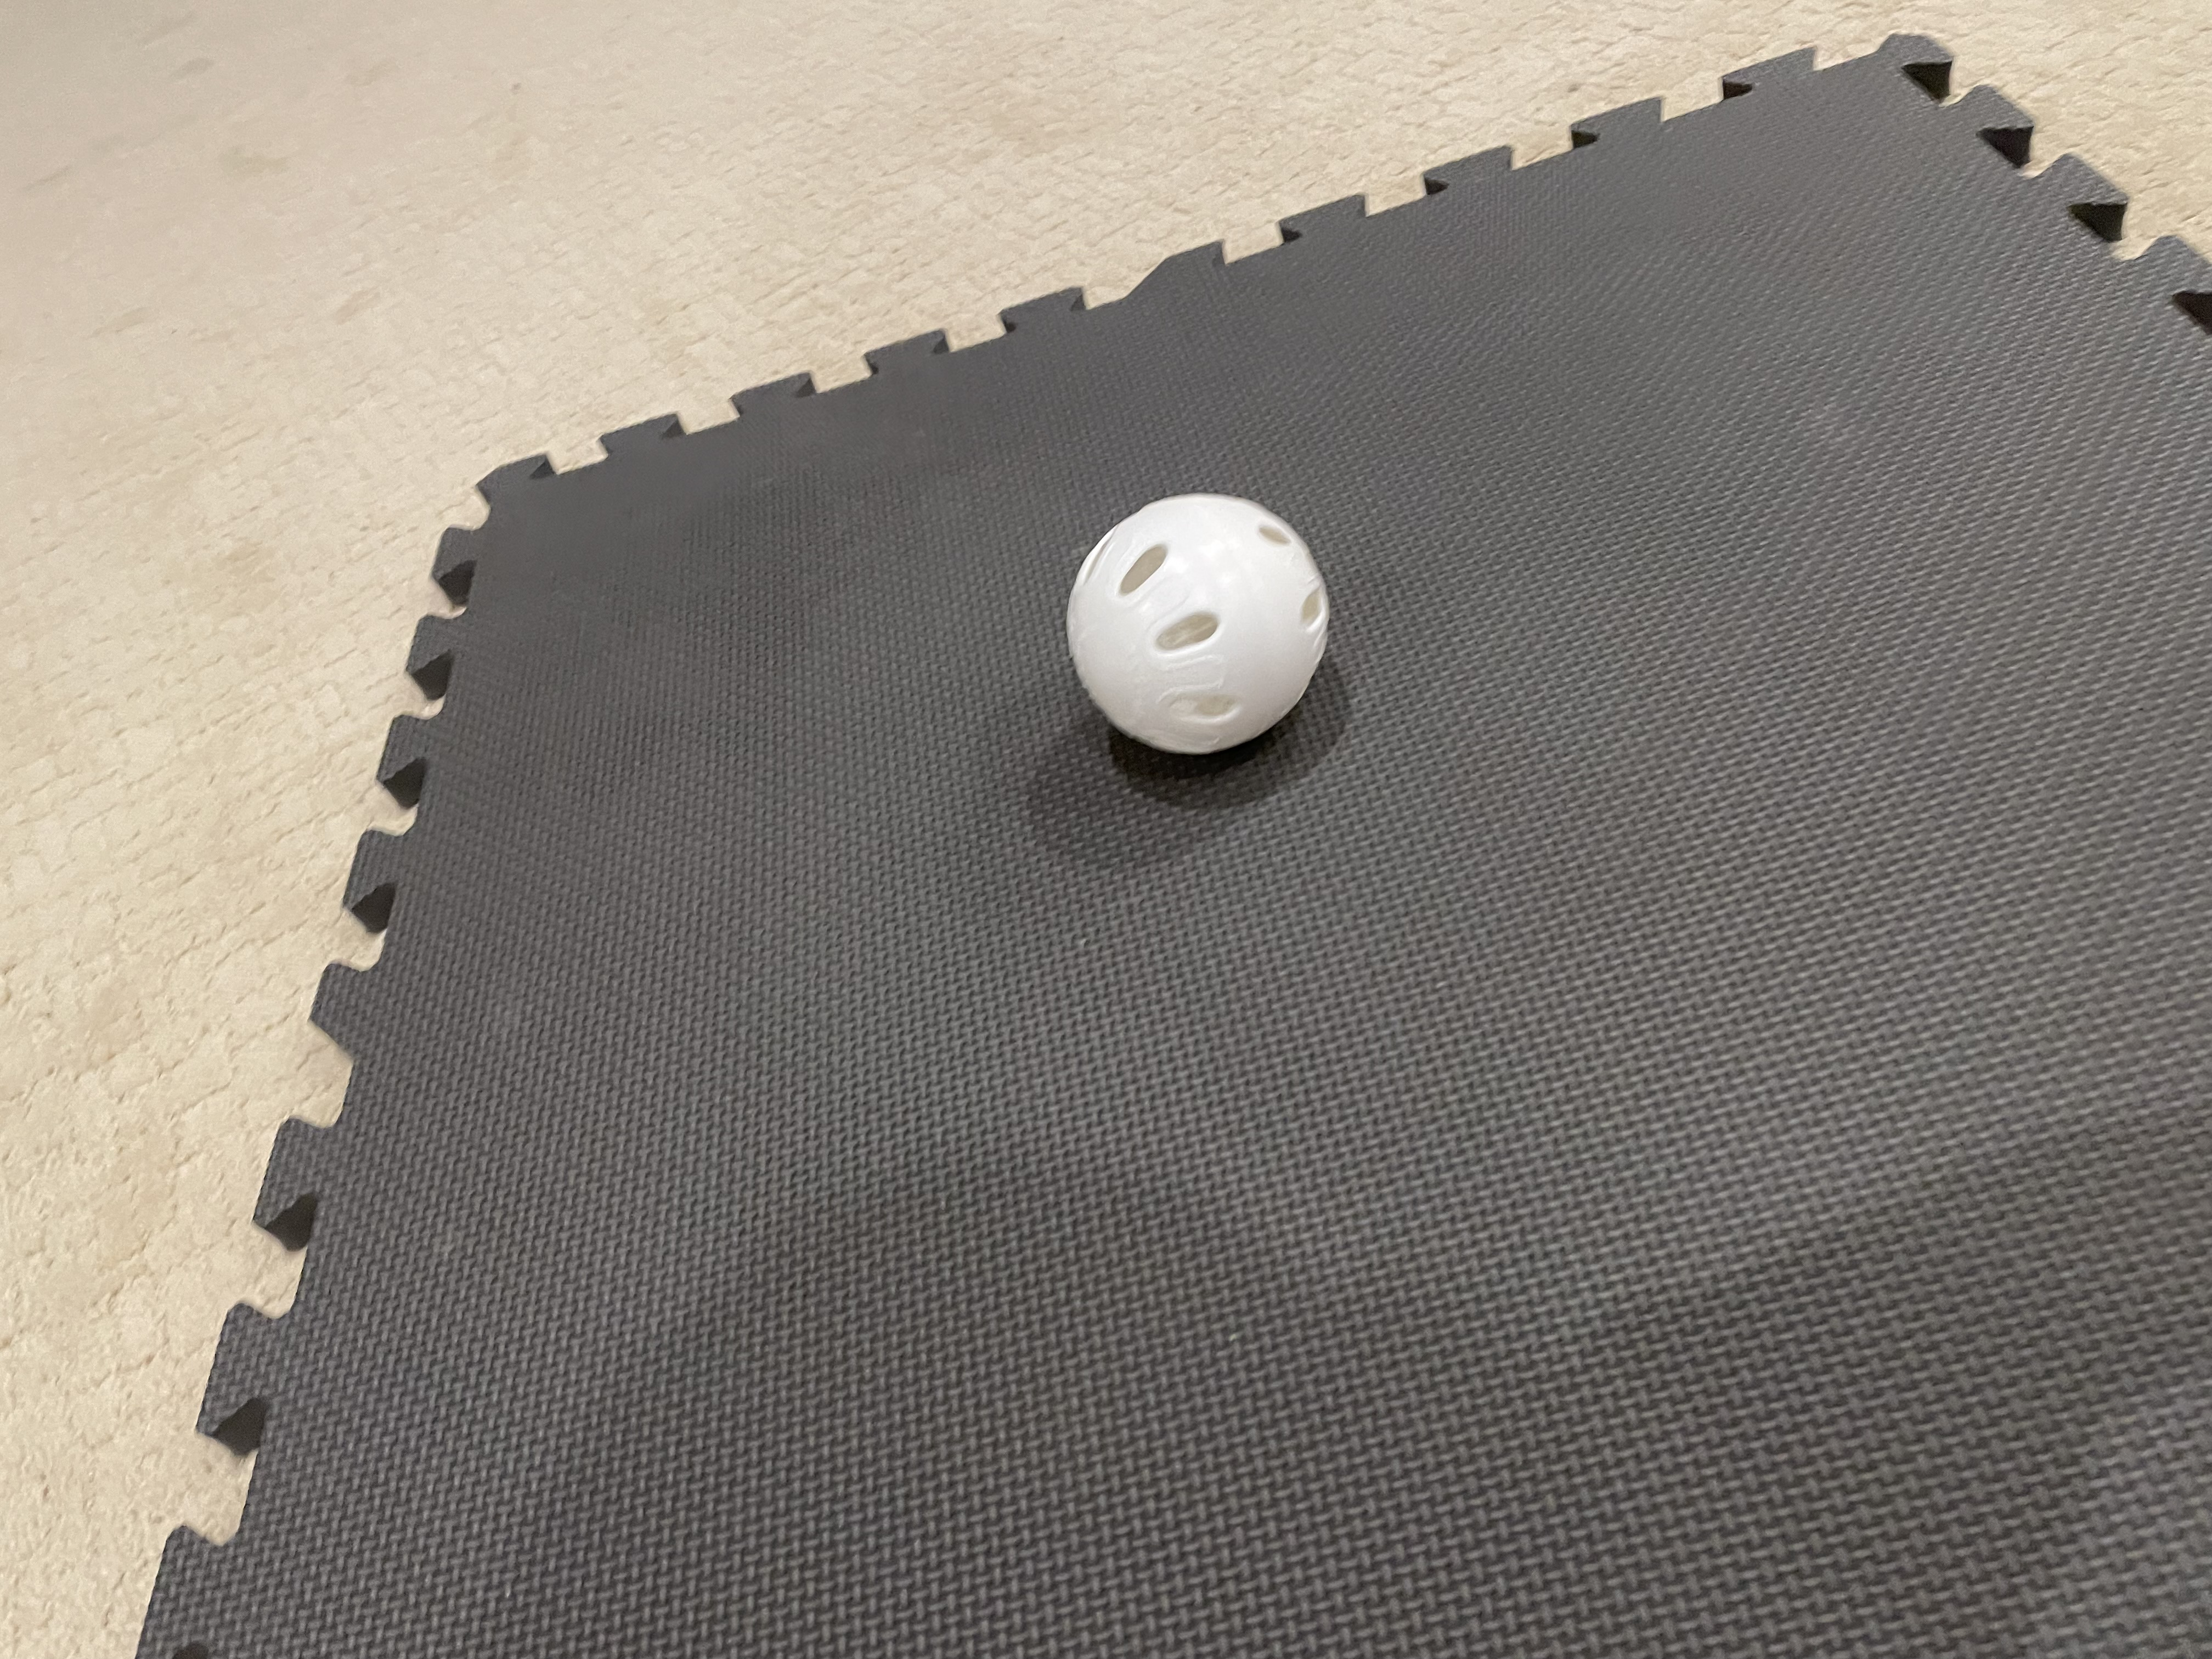ball: (1035, 458, 1366, 788)
